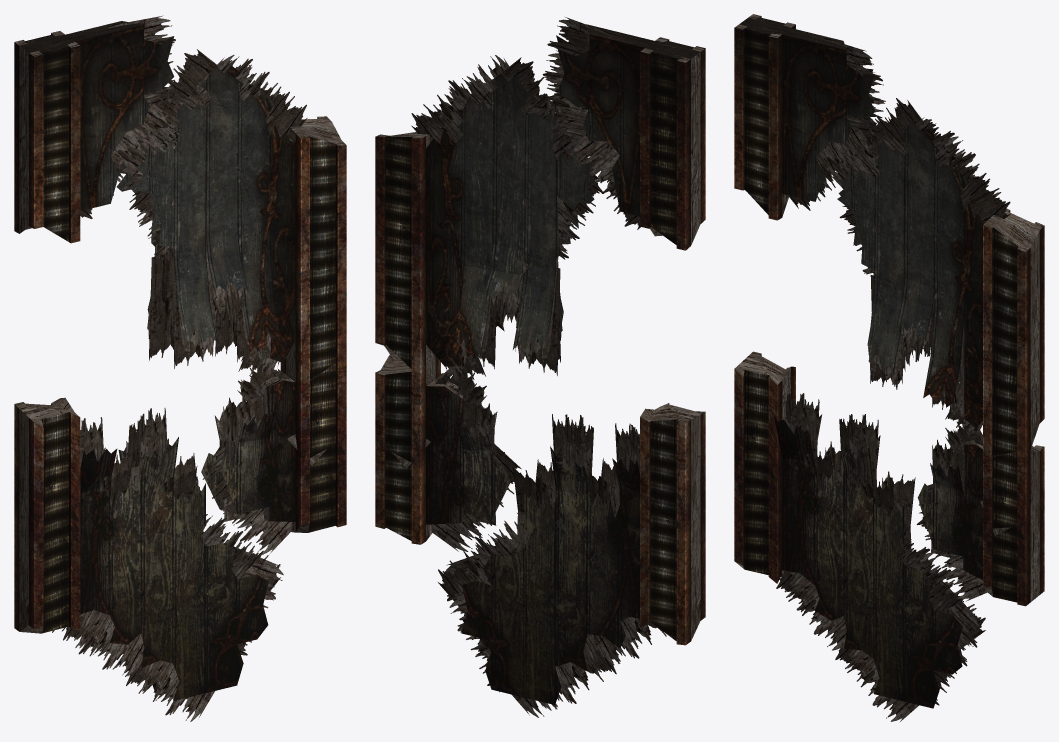
File: wooden_slide_door_destroyed.dae
3 views of the same model, side by side, from view 1: azimuth 30°, elevation 25°; view 2: azimuth 150°, elevation 25°; view 3: azimuth 330°, elevation 25° (orthographic). The views are drawn at different scales.
Visible parts, largest first — view 1: higher, bottom, top1, lower; view 2: bottom, higher, top1, lower; view 3: higher, bottom, top1, lower.
Part boxes in pixels (box(x1,y1,x2,y2)): higher: box(116, 49, 346, 386); bottom: box(14, 397, 283, 721); top1: box(14, 15, 176, 243); lower: box(201, 360, 346, 554); bottom: box(438, 403, 705, 717); higher: box(375, 55, 604, 383); top1: box(542, 17, 705, 250); lower: box(375, 354, 521, 551); higher: box(828, 98, 1044, 458); bottom: box(734, 351, 985, 721); top1: box(734, 14, 885, 220); lower: box(916, 421, 1044, 606).
Size of the model in its own units: 1.44 by 3.15 by 0.2848.
